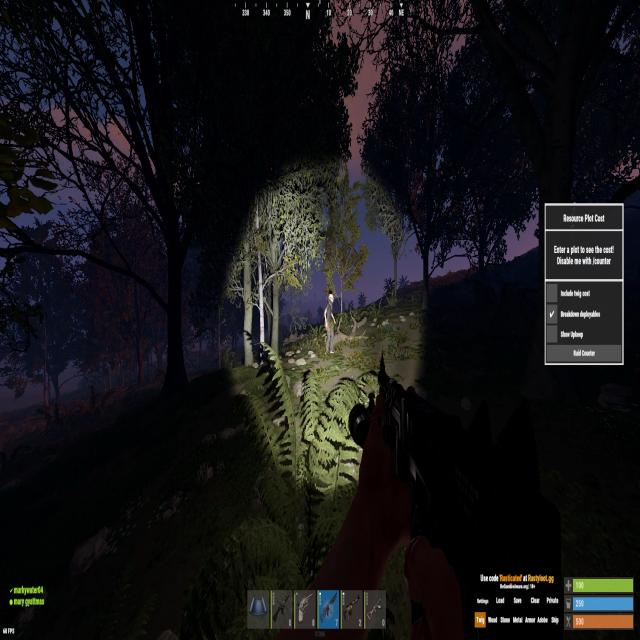Player: (324, 293, 336, 355)
